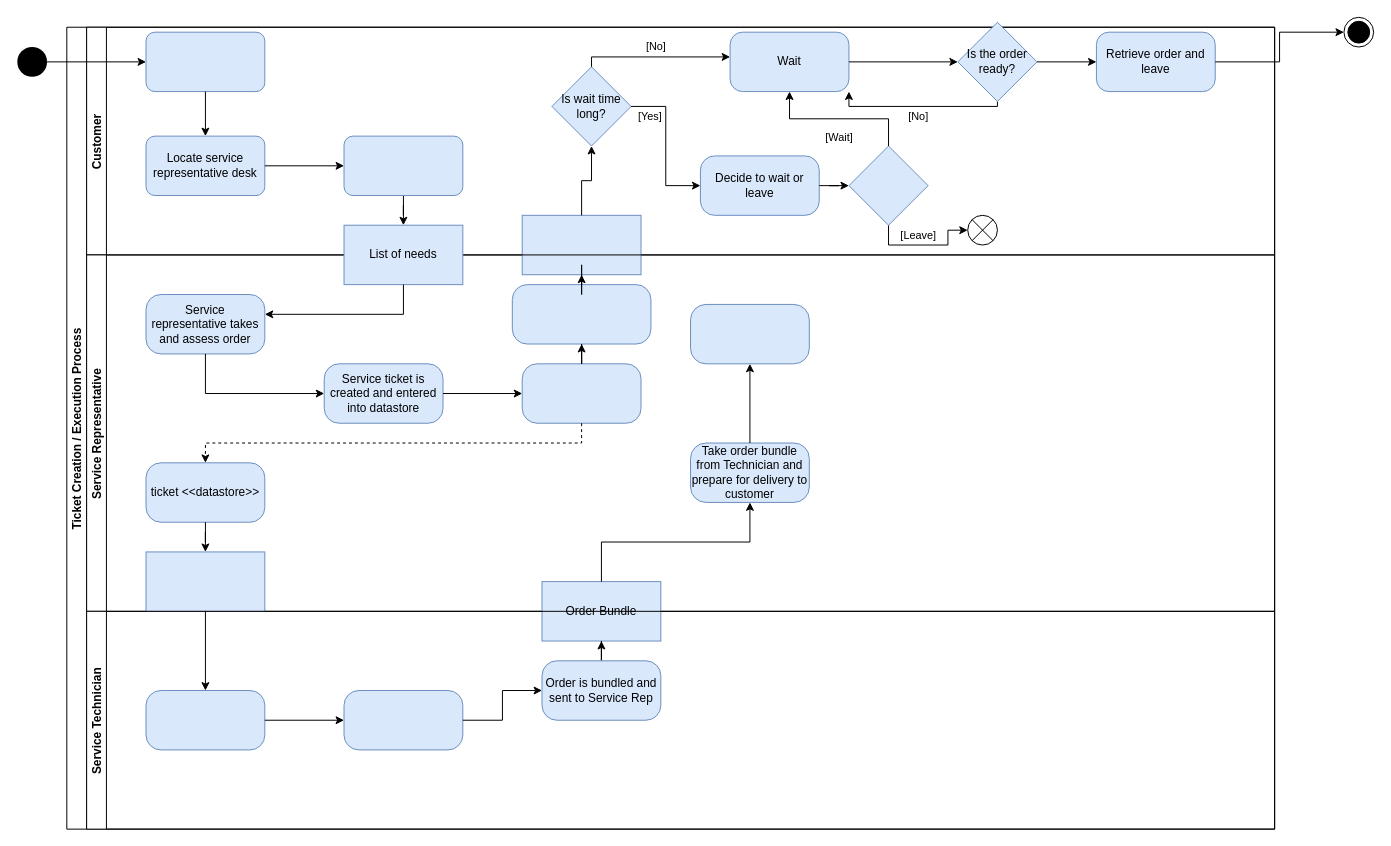
The diagram is 1391 pixels wide and 846 high, and some of its shapes have lost their labels. The shapes that lost their labels are listed below. From the top down, each one's centre as x and y in pixels, then its label:
At point 205,61: "Customer enters store".
At point 403,165: "Hand representative list of needs".
At point 581,244: "Receipt".
At point 581,314: "Receipt is printed and handed to the customer with approximate wait time".
At point 749,333: "Notify Customer order is ready".
At point 581,393: "A priority is set before storing information in datastore".
At point 205,581: "Ticket information".
At point 205,720: "Service technician retrieves ticket information from datastore".
At point 403,720: "Technician performs requested services to customer specifications".
